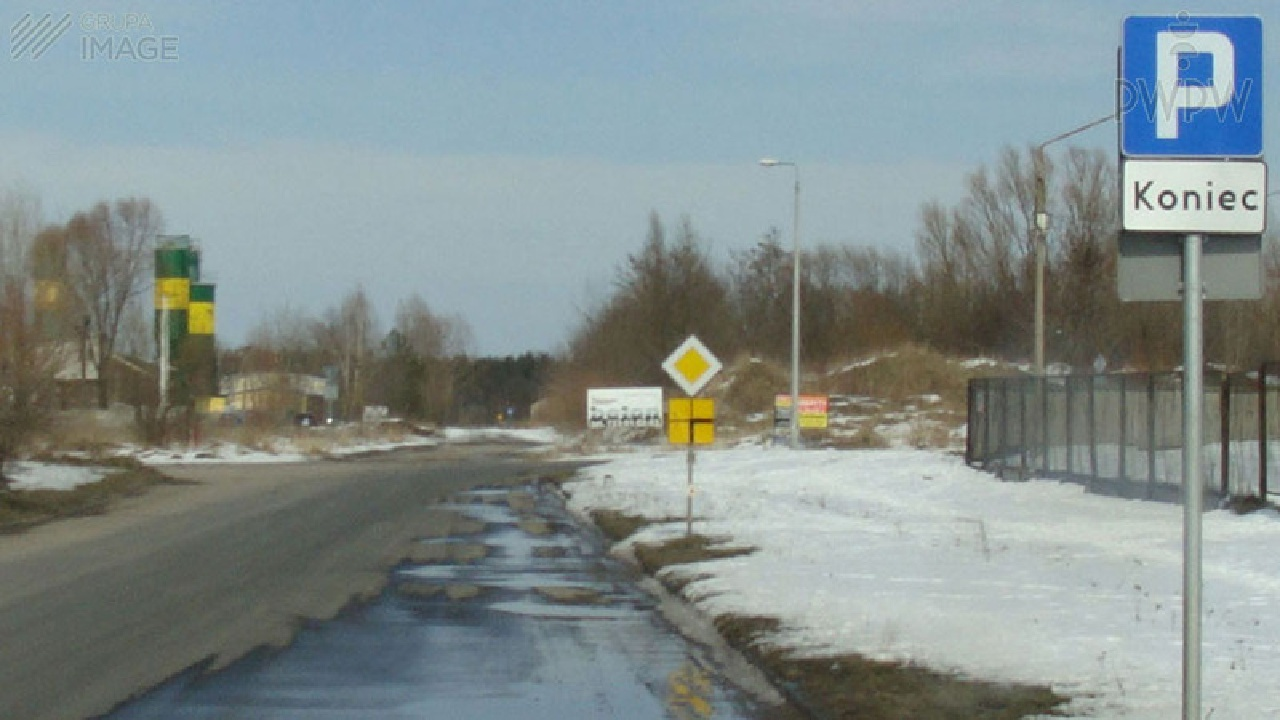D1: (663, 333, 721, 392)
D18: (1121, 17, 1262, 155)
